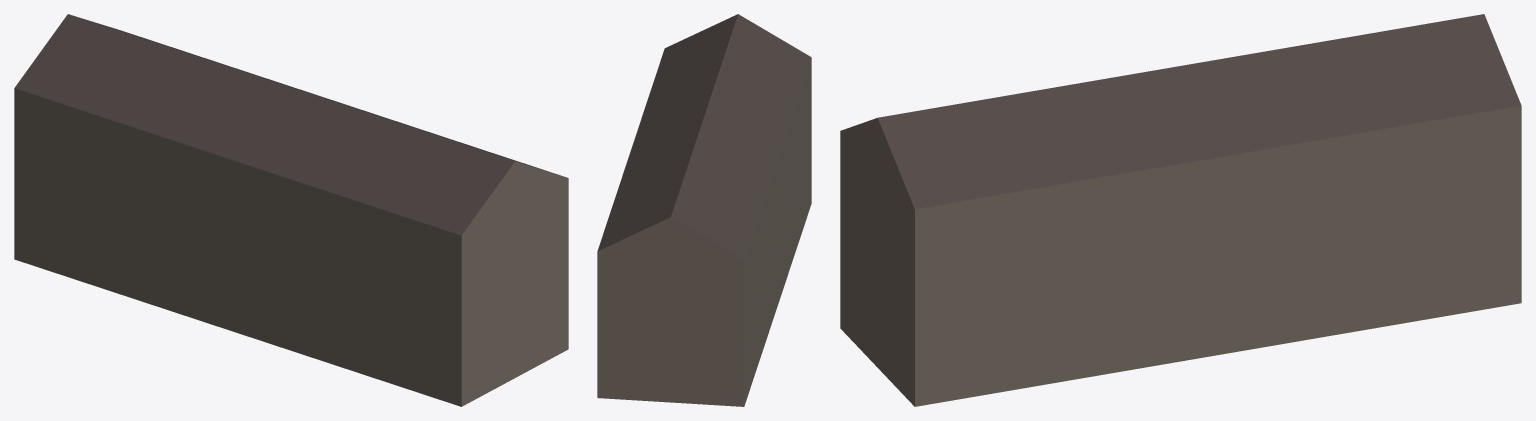
3 views of the same model, side by side, from view 1: azimuth 30°, elevation 25°; view 2: azimuth 150°, elevation 25°; view 3: azimuth 270°, elevation 25° (orthographic). The views are drawn at different scales.
Visible parts, largest first — view 1: HP-w372180448; view 2: HP-w372180448; view 3: HP-w372180448.
Boxes of the visible parts, bbox=[...] form: HP-w372180448: bbox=[14, 14, 568, 406]; HP-w372180448: bbox=[597, 14, 811, 406]; HP-w372180448: bbox=[840, 14, 1521, 406].
Size of the model in its own units: 17.79 by 11.38 by 28.11.
